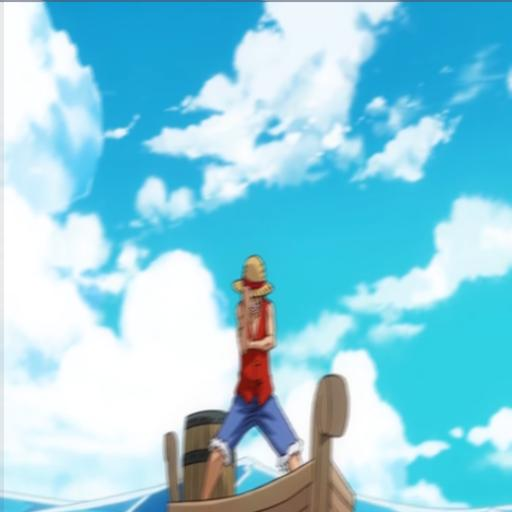Luffy: (188, 256, 316, 512)
